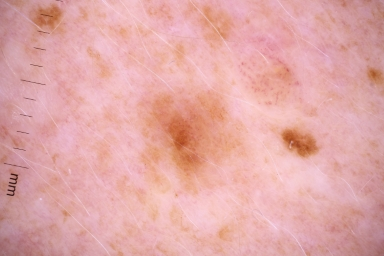melanoma: (152, 95, 252, 188), (280, 127, 319, 155)
